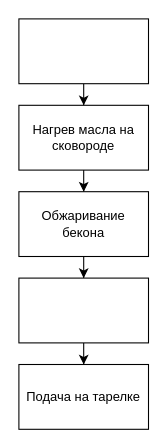
This 167x448 diagram has some shape labels left out. Each missing label, with the centre of its shape:
Подготовка ингредиентов: point (83, 51)
Приготовление яичницы: point (83, 310)
